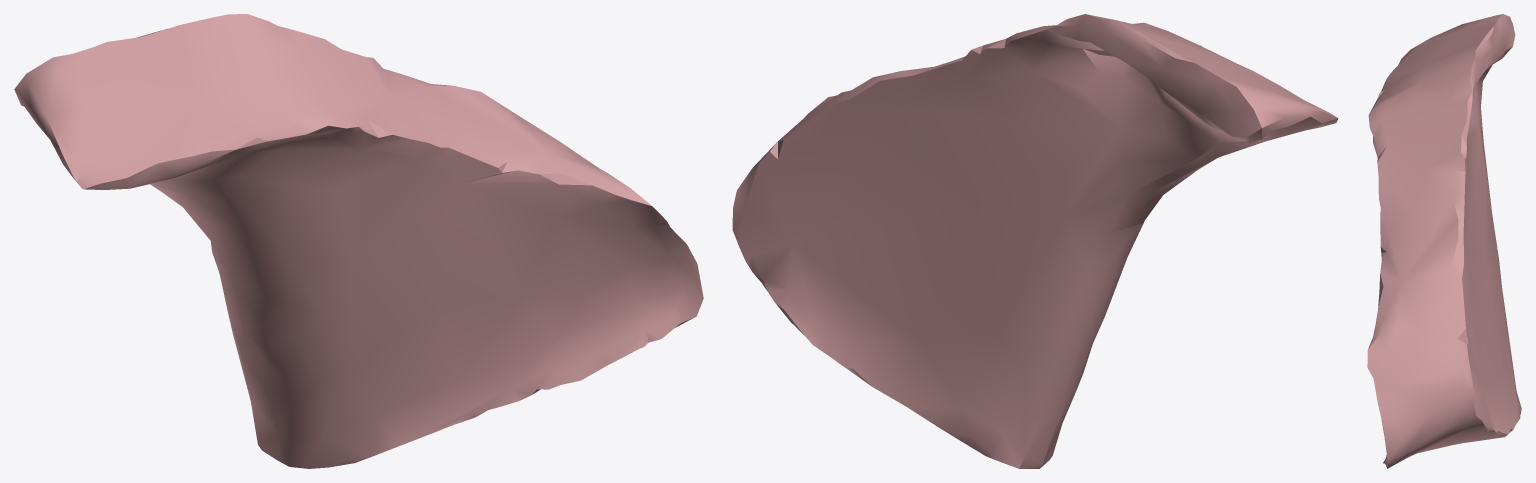
Rendered from fma77749-l_mm2593.glb.
3 renders of one model, left to right at view 1: azimuth 30°, elevation 25°; view 2: azimuth 150°, elevation 25°; view 3: azimuth 270°, elevation 25°, orthographic. The views are drawn at different scales.
Visible parts, largest first — view 1: FMA77749-L_MM2593; view 2: FMA77749-L_MM2593; view 3: FMA77749-L_MM2593.
Boxes of the visible parts, <box> form: FMA77749-L_MM2593: <box>14,14,703,468</box>; FMA77749-L_MM2593: <box>732,14,1338,468</box>; FMA77749-L_MM2593: <box>1367,14,1521,468</box>.
Size of the model in its own units: 0.00398 by 0.00287 by 0.00117.
